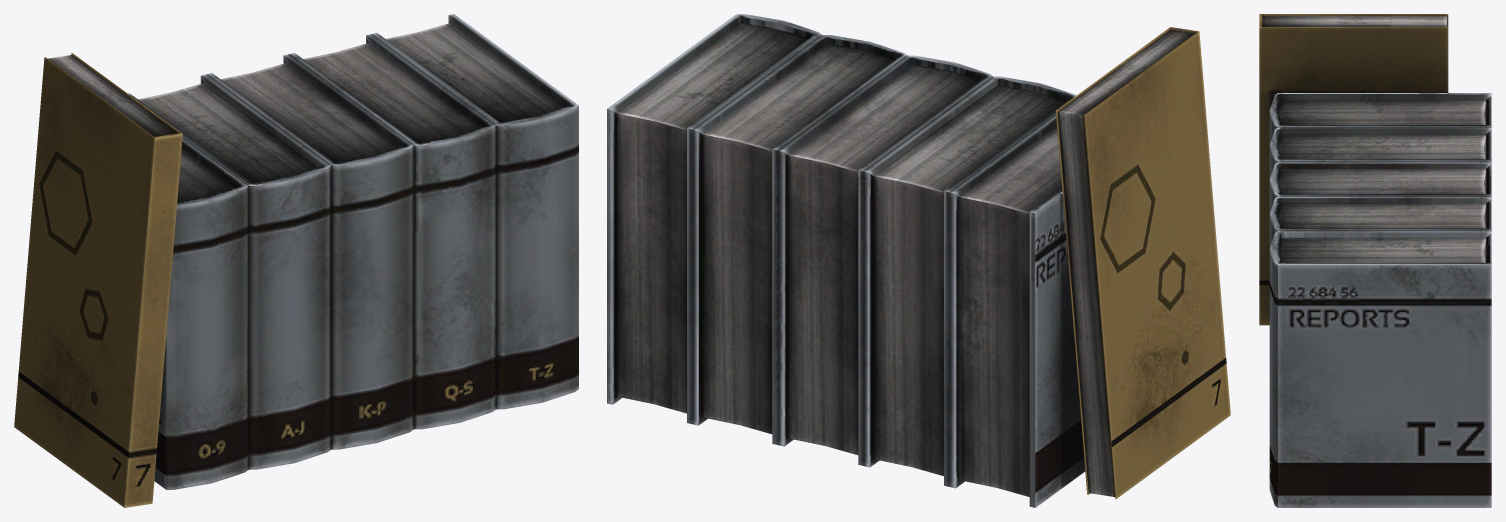
File: book_row02.dae
3 views of the same model, side by side, from view 1: azimuth 30°, elevation 25°; view 2: azimuth 150°, elevation 25°; view 3: azimuth 270°, elevation 25° (orthographic). The views are drawn at different scales.
Visible parts, largest first — view 1: book_row02; view 2: book_row02; view 3: book_row02.
Part boxes in pixels (x1=…): book_row02: x1=14, y1=14, x2=578, y2=507; book_row02: x1=607, y1=14, x2=1230, y2=507; book_row02: x1=1259, y1=14, x2=1491, y2=507.
Size of the model in its own units: 0.514 by 0.3856 by 0.2599.
